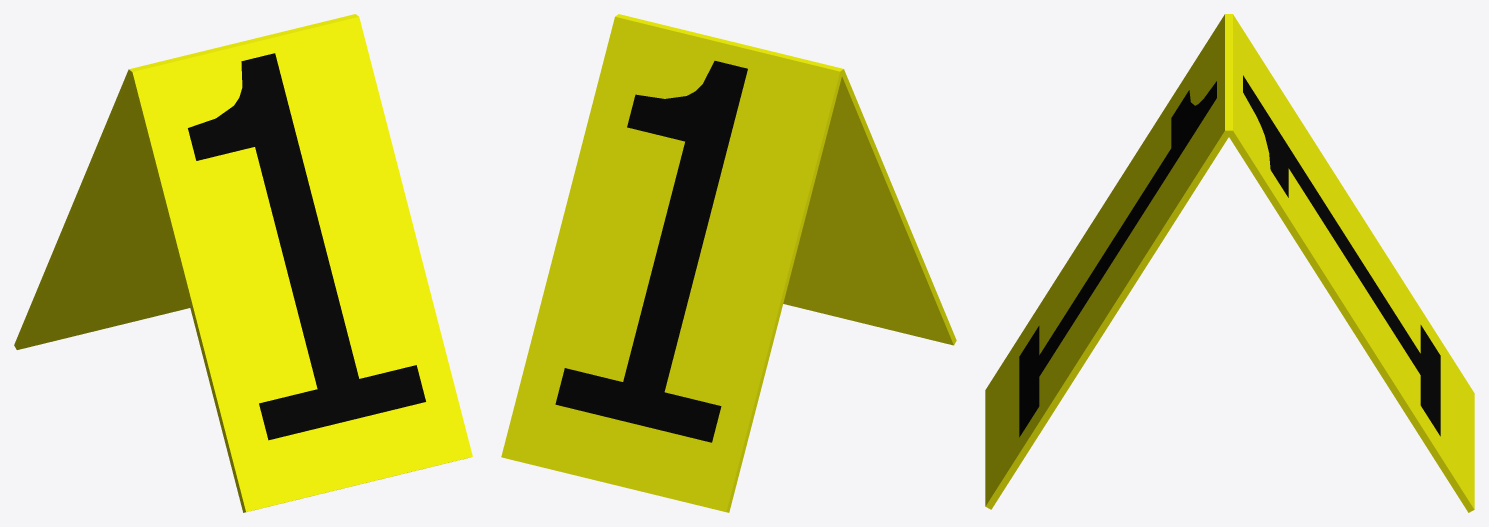
The model's file is A_One.dae.
3 renders of one model, left to right at view 1: azimuth 30°, elevation 25°; view 2: azimuth 150°, elevation 25°; view 3: azimuth 270°, elevation 25°, orthographic. The views are drawn at different scales.
Visible parts, largest first — view 1: skpAA8F (×3); view 2: skpAA8F (×3); view 3: skpAA8F (×5).
Part boxes in pixels (x1=…): skpAA8F (×3): x1=14, y1=14, x2=472, y2=512; skpAA8F (×3): x1=501, y1=14, x2=956, y2=512; skpAA8F (×5): x1=985, y1=14, x2=1474, y2=512.
Bounding box in the file's own units: 4 × 7.09 × 6.11.
